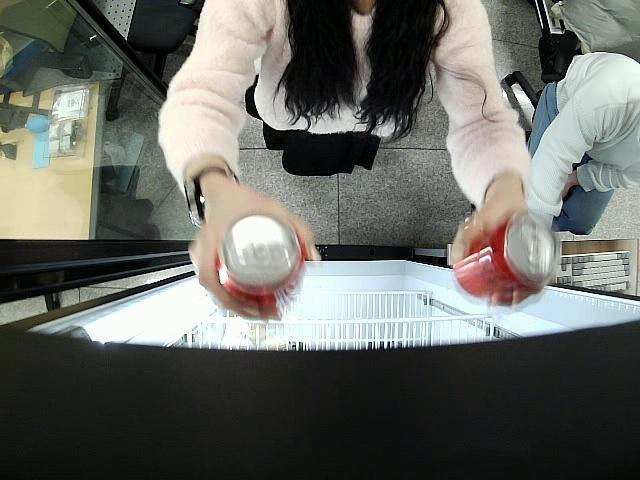11_cocaColaZero: (451, 208, 556, 300), (216, 210, 307, 307)
